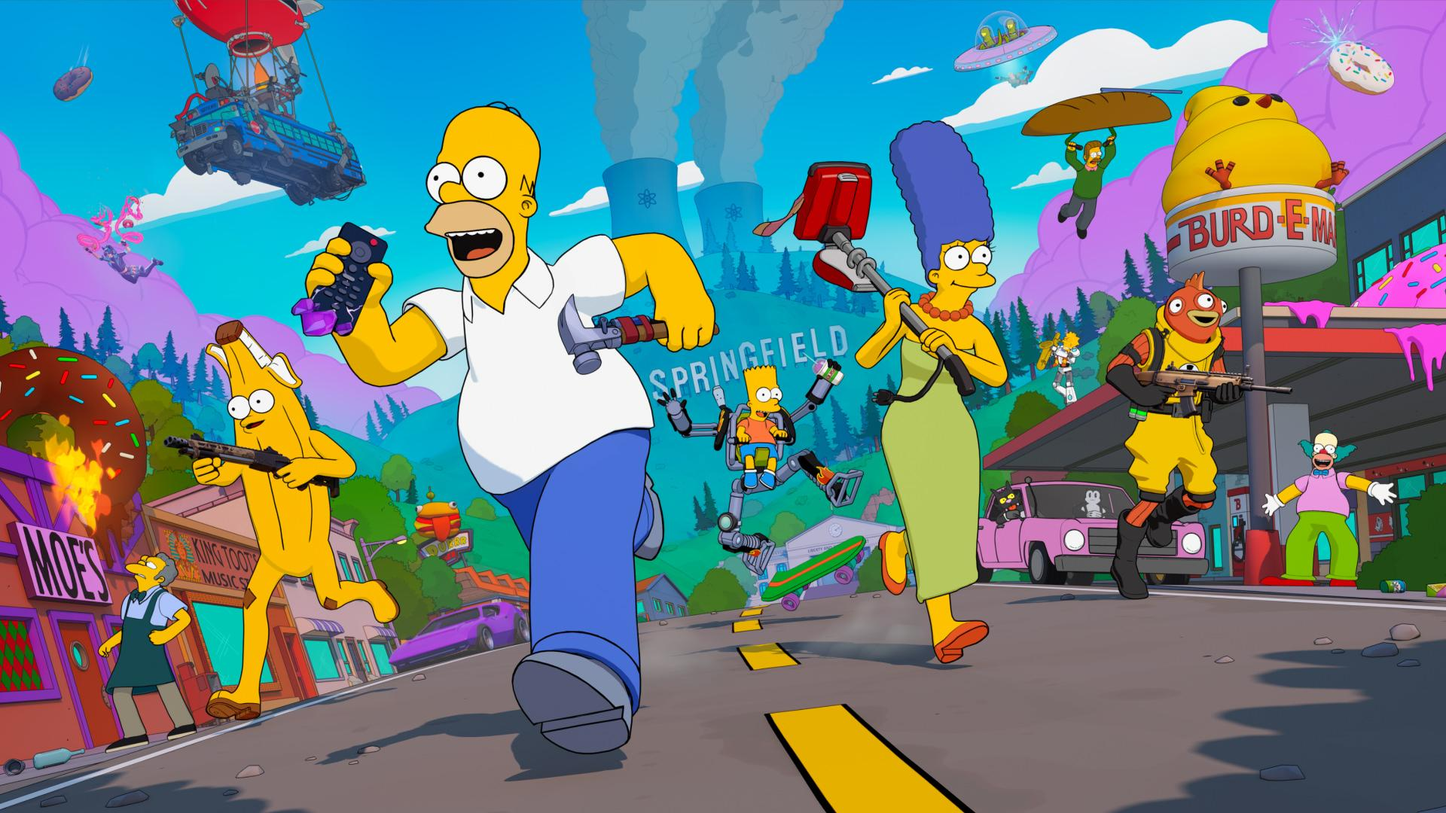Bart: (700, 354, 809, 502)
Homer: (250, 104, 741, 780)
Marge: (827, 109, 1023, 678)
